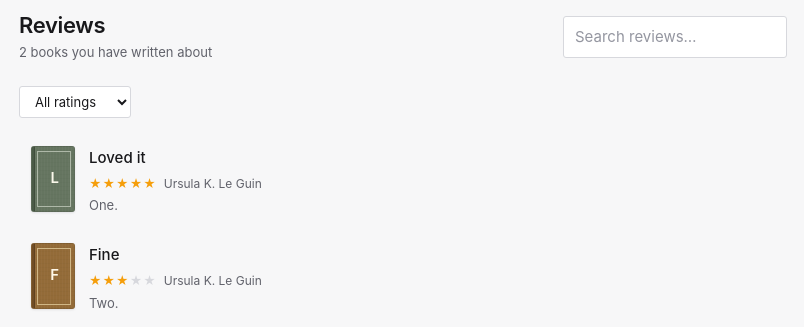
the Reviews screen › narrows to one rating
Select "★★★★★" in the dropdown named "Filter by rating": (75, 102) [19,86,131,118]
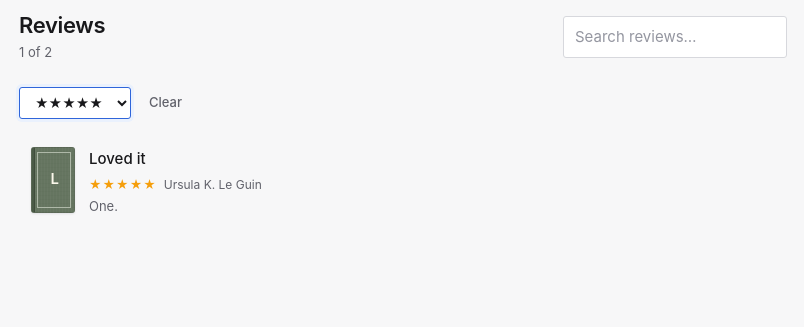
Expected: the text "One." is shown, [89,198,118,214]
Expected: the button "Two." is gone
